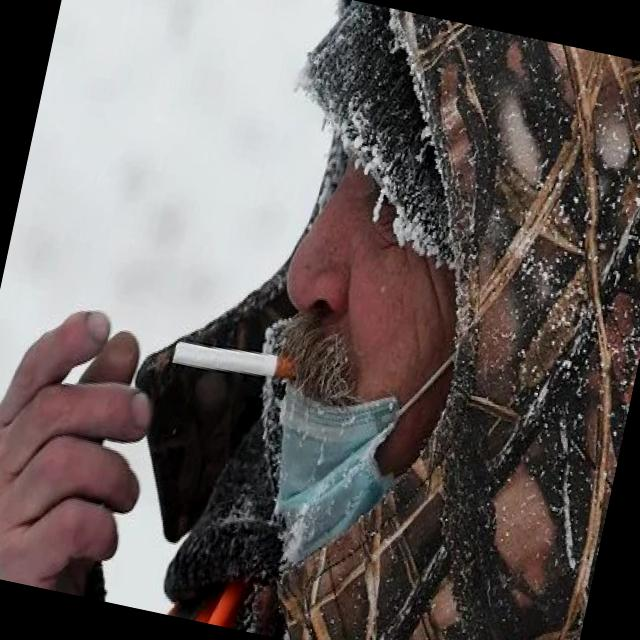smoke: (163, 332, 304, 398)
